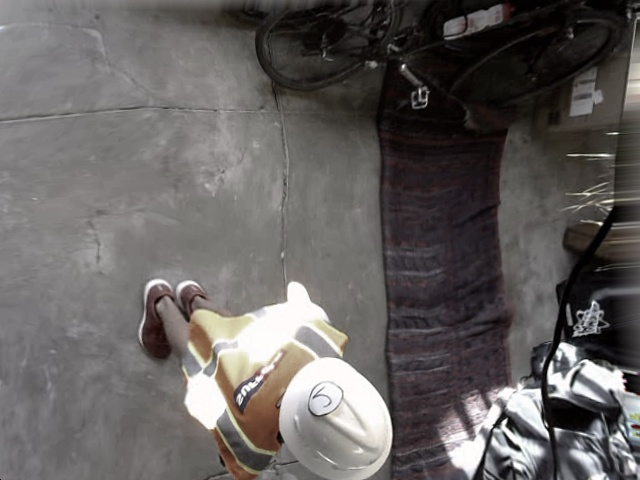two: (307, 379, 345, 415)
